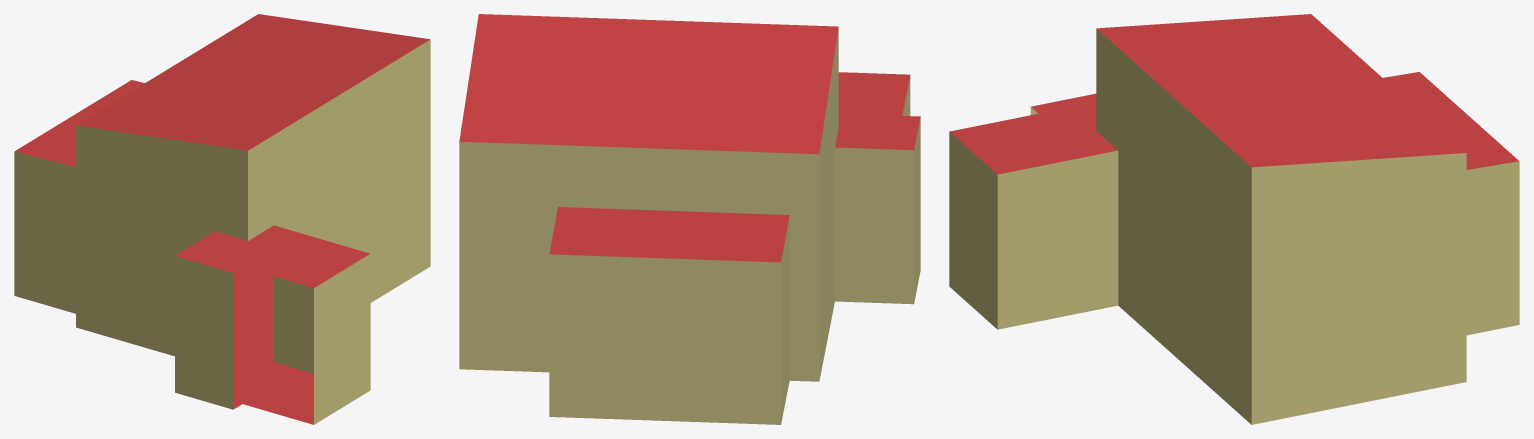
The picture shows the model from 3 angles, left to right: view 1: azimuth 30°, elevation 25°; view 2: azimuth 150°, elevation 25°; view 3: azimuth 270°, elevation 25°; orthographic projection. The views are drawn at different scales.
Size of the model in its own units: 15.79 by 20.07 by 10.01.
